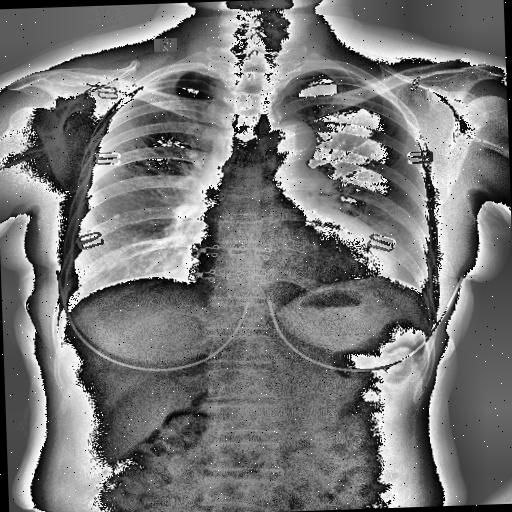0- Aortic enlargement: (250, 120, 314, 176), (262, 118, 318, 174), (261, 117, 316, 166)
3- Cardiomegaly: (176, 224, 398, 295), (180, 222, 401, 289), (182, 236, 400, 294)
